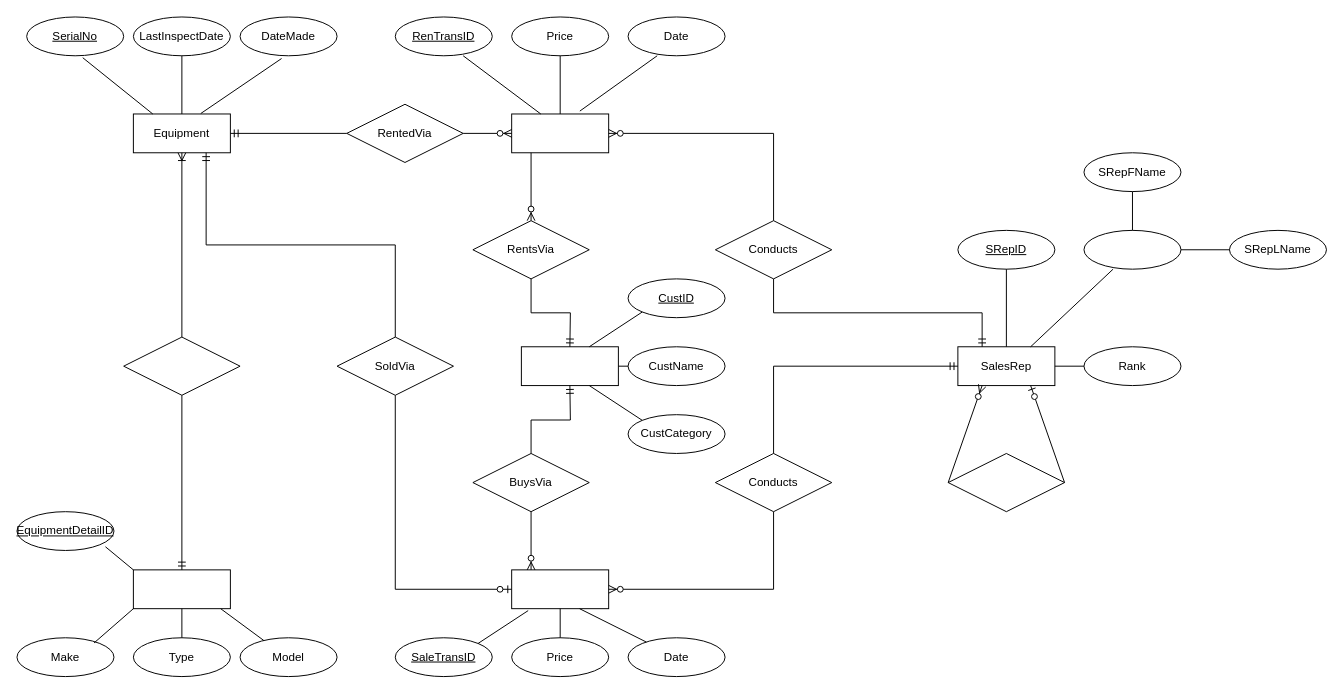
This 1343x694 diagram has some shape labels left out. Each missing label, with the centre of its shape:
(SRepName): the point at 1132,249
Customer: the point at 569,366
EquipmentDetail: the point at 181,589
Has: the point at 181,365
Mentors: the point at 1006,482
Rental: the point at 560,133
Sale: the point at 560,589
